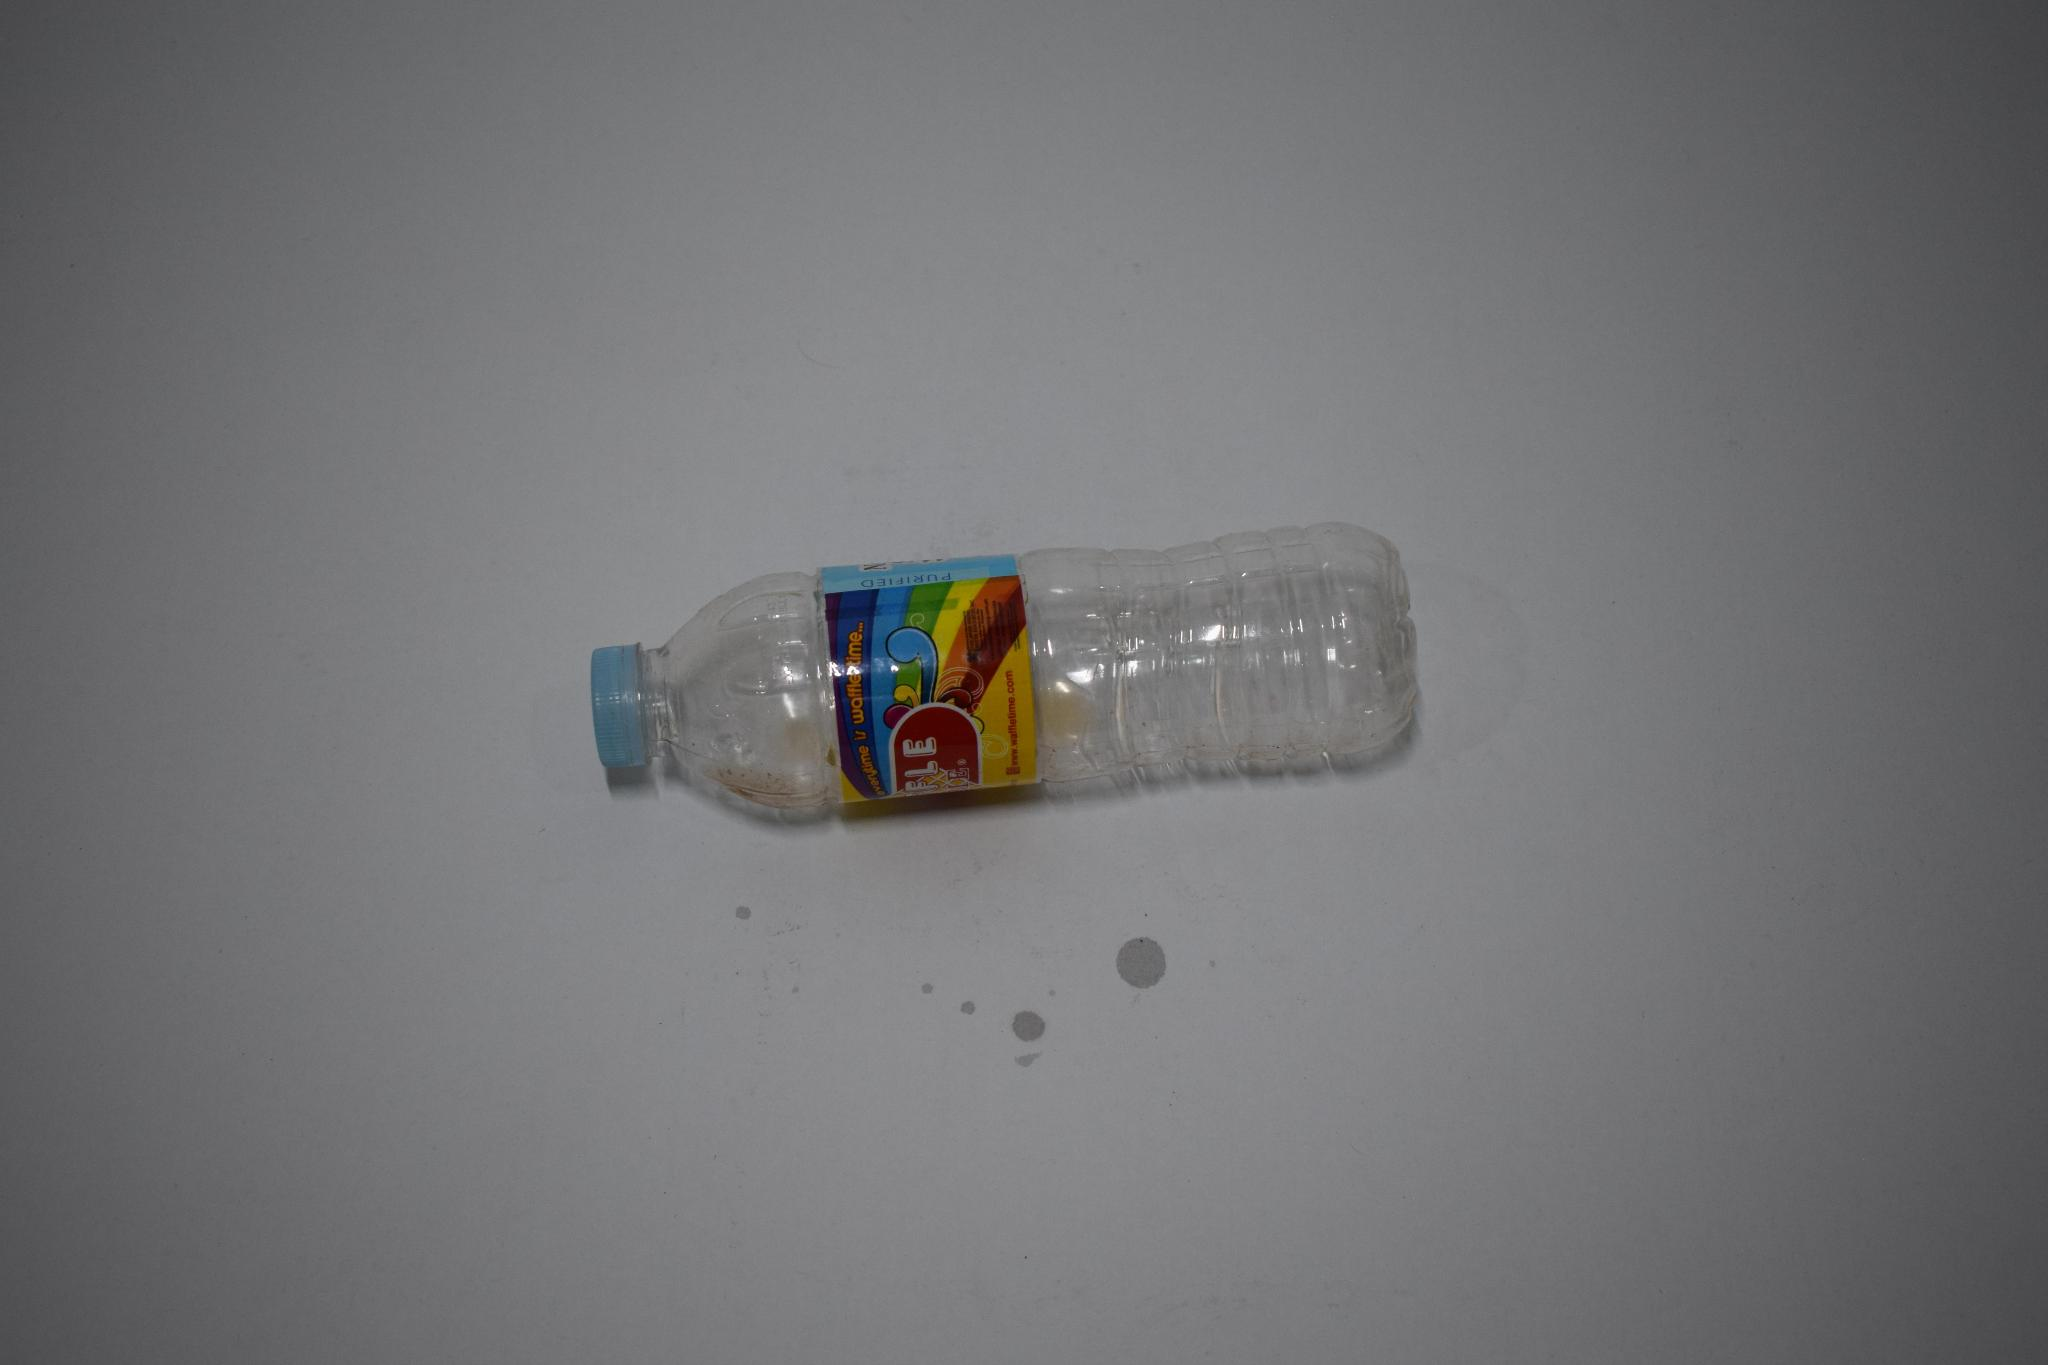bottle: (585, 509, 1430, 832)
